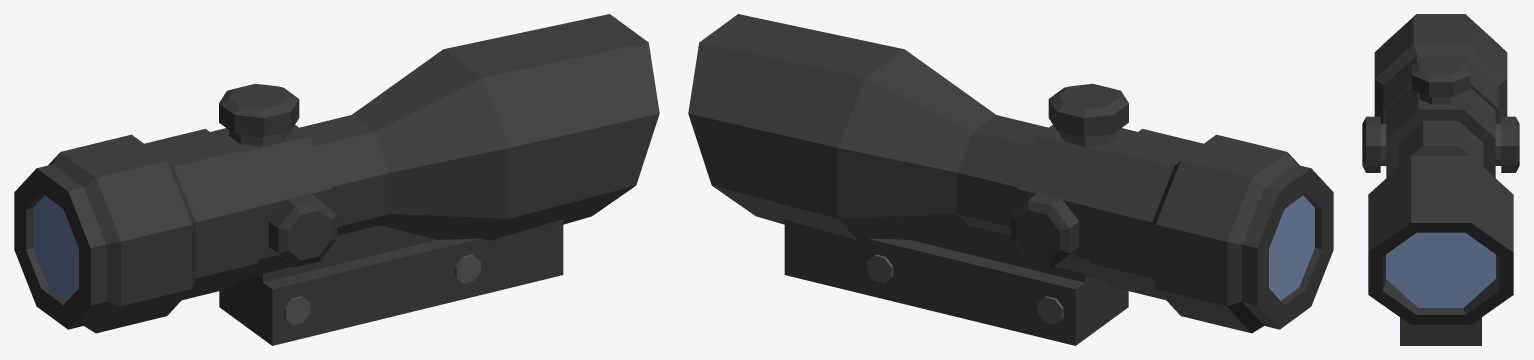
Rendered from Optic_04.fbx.
3 views of the same model, side by side, from view 1: azimuth 30°, elevation 25°; view 2: azimuth 150°, elevation 25°; view 3: azimuth 270°, elevation 25° (orthographic). The views are drawn at different scales.
Parts seen in each view (by area): view 1: Optic_04; view 2: Optic_04; view 3: Optic_04.
Part boxes in pixels (left/top/right/bottom): Optic_04: left=14, top=14, right=659, bottom=345; Optic_04: left=688, top=14, right=1333, bottom=345; Optic_04: left=1362, top=14, right=1519, bottom=345.
Bounding box in the file's own units: 0.1753 × 0.0659 × 0.0536.
